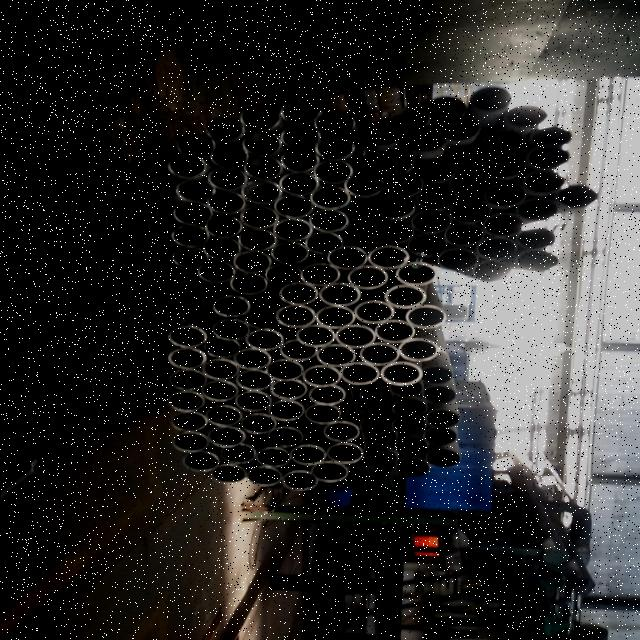pipe: (449, 198, 491, 224), (381, 362, 423, 388), (383, 285, 427, 309), (516, 198, 558, 222), (528, 144, 570, 168), (484, 183, 526, 207), (484, 154, 526, 178), (483, 130, 525, 154), (437, 248, 479, 272), (444, 224, 486, 248), (446, 144, 488, 168), (439, 117, 481, 141), (416, 186, 458, 210), (414, 158, 456, 182), (406, 127, 448, 151), (372, 194, 414, 218), (398, 338, 440, 362), (405, 306, 447, 330), (368, 246, 410, 270), (346, 266, 388, 290), (334, 325, 376, 349), (319, 283, 361, 307), (274, 305, 316, 329), (278, 282, 320, 306), (314, 136, 356, 160), (240, 180, 282, 204), (360, 342, 400, 367), (383, 173, 424, 197), (353, 301, 394, 325), (300, 262, 341, 286), (272, 218, 313, 242), (514, 250, 558, 272), (522, 170, 564, 193), (476, 237, 518, 260), (410, 210, 452, 233), (482, 213, 522, 237), (448, 172, 488, 196), (408, 234, 448, 258), (374, 220, 414, 244), (344, 174, 384, 198), (374, 152, 414, 176), (362, 122, 402, 146), (396, 262, 436, 286), (340, 362, 380, 386), (374, 320, 414, 344), (328, 246, 368, 270), (316, 306, 356, 330), (316, 344, 356, 368), (181, 305, 221, 329), (308, 209, 348, 233), (280, 126, 320, 150), (280, 100, 320, 124), (242, 132, 282, 156), (240, 106, 280, 130), (273, 195, 314, 218), (296, 324, 335, 348), (243, 156, 282, 180), (556, 186, 598, 208), (312, 112, 354, 134), (472, 88, 512, 111), (211, 295, 251, 318), (304, 232, 344, 255), (310, 187, 350, 210), (312, 160, 352, 183), (278, 172, 318, 195), (172, 202, 212, 225), (175, 180, 216, 202), (245, 329, 284, 352), (390, 108, 430, 130), (278, 340, 318, 362), (167, 156, 207, 178), (270, 378, 308, 401), (233, 348, 271, 371), (169, 369, 207, 392), (170, 224, 208, 247), (472, 260, 511, 282), (508, 106, 547, 128), (280, 150, 319, 172), (239, 206, 278, 228), (205, 215, 242, 238), (530, 128, 572, 148), (517, 228, 555, 250), (429, 98, 467, 120), (326, 443, 364, 465), (322, 421, 360, 443), (308, 384, 346, 406), (302, 366, 340, 388), (310, 462, 348, 484), (266, 427, 304, 449), (266, 400, 304, 422), (266, 359, 304, 381), (218, 443, 256, 465), (239, 414, 277, 436), (243, 307, 281, 329), (207, 426, 245, 448), (204, 405, 242, 427), (200, 380, 238, 402), (212, 319, 250, 341), (264, 264, 302, 286), (229, 274, 267, 296), (270, 242, 308, 264), (232, 251, 270, 273), (238, 229, 276, 251), (202, 238, 240, 260), (207, 192, 245, 214), (208, 168, 246, 190), (210, 146, 248, 168), (171, 247, 209, 269), (168, 348, 207, 369), (168, 327, 207, 348), (197, 262, 234, 284), (206, 119, 243, 141), (177, 134, 214, 156), (172, 432, 210, 453), (282, 470, 318, 492), (290, 444, 326, 466), (254, 446, 290, 468), (182, 451, 218, 473), (303, 404, 341, 424), (202, 360, 240, 380), (202, 338, 240, 358), (246, 466, 282, 487), (210, 464, 247, 484), (425, 448, 461, 468), (424, 410, 460, 430), (391, 416, 427, 436), (392, 398, 428, 418), (234, 392, 270, 412), (236, 370, 272, 390), (171, 412, 207, 432), (168, 392, 204, 412), (422, 386, 456, 406), (422, 428, 458, 446), (363, 450, 398, 468), (359, 406, 394, 424), (394, 438, 428, 456), (363, 428, 397, 446), (358, 388, 392, 406), (388, 381, 424, 398), (420, 367, 452, 385), (396, 459, 428, 477)
